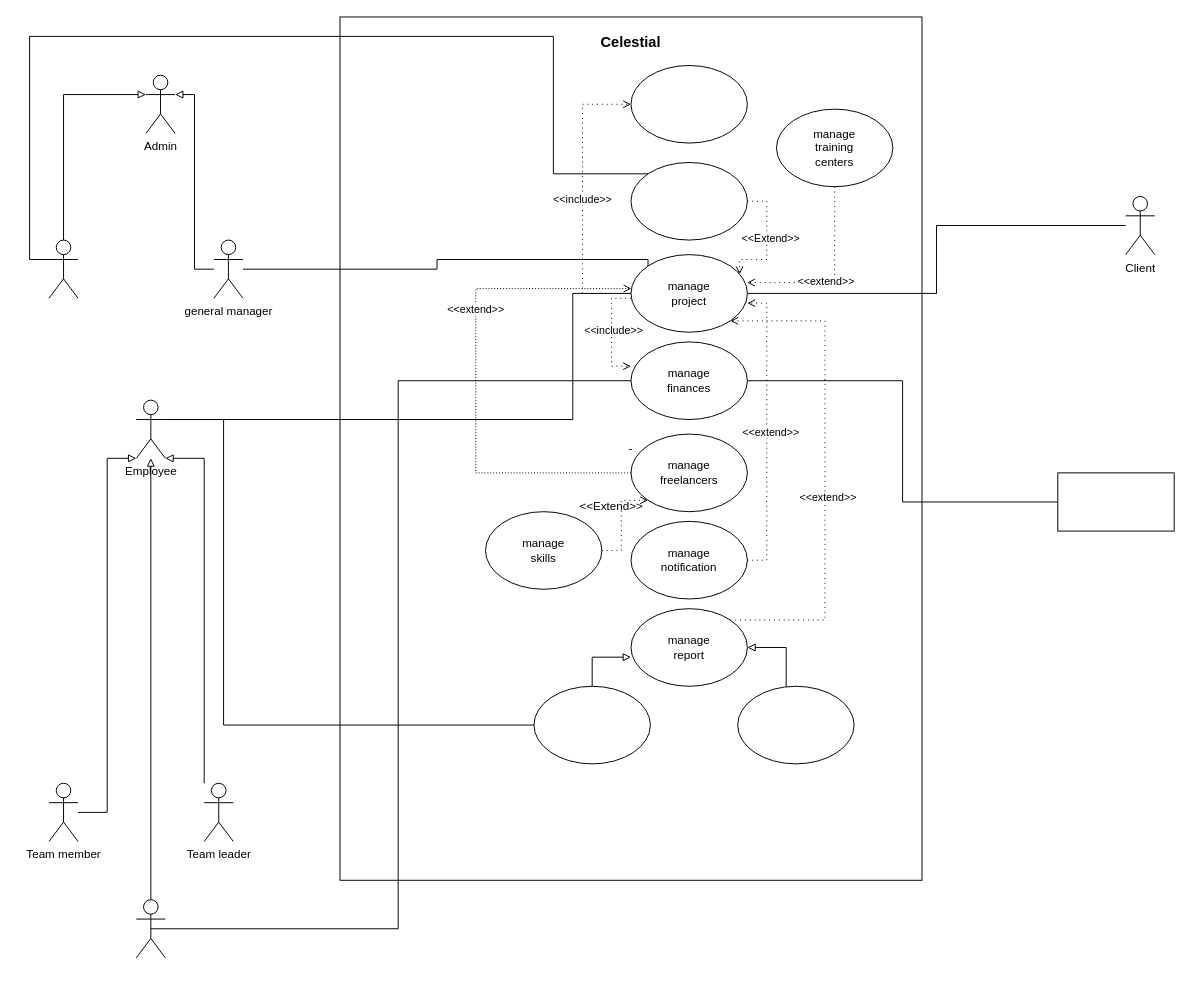
This 1191x995 diagram has some shape labels left out. The shapes that lost their labels are listed below. From the top down, each one's box as (x1, y1, x2, y2) in pixels, then its label:
(630, 65, 747, 143): manage accounts
(630, 162, 747, 240): manage clients
(48, 239, 78, 298): proposal manager
(1057, 472, 1174, 531): Bank repo
(533, 685, 650, 764): manage employee report
(737, 685, 854, 764): manage client report
(135, 899, 165, 958): accountant
